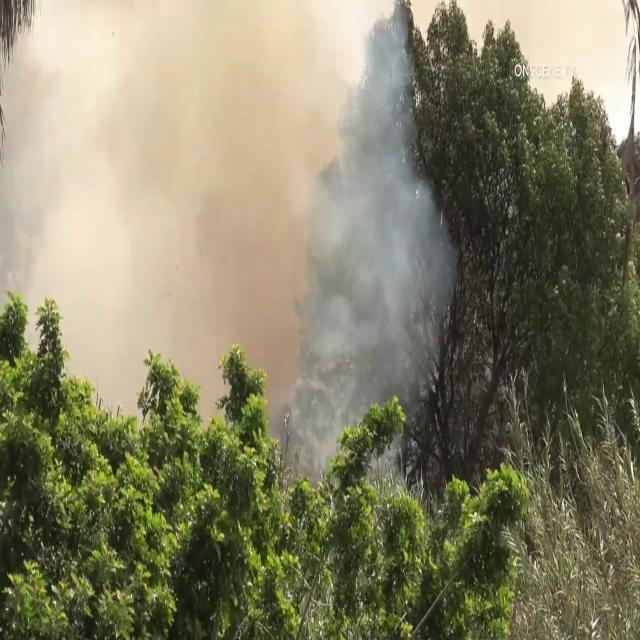Smoke: (1, 0, 457, 453)
